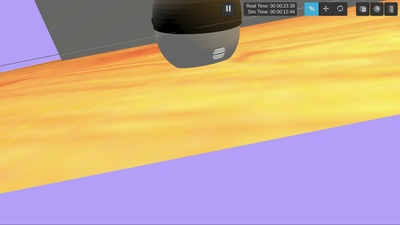mira_robot: (151, 1, 242, 68)
